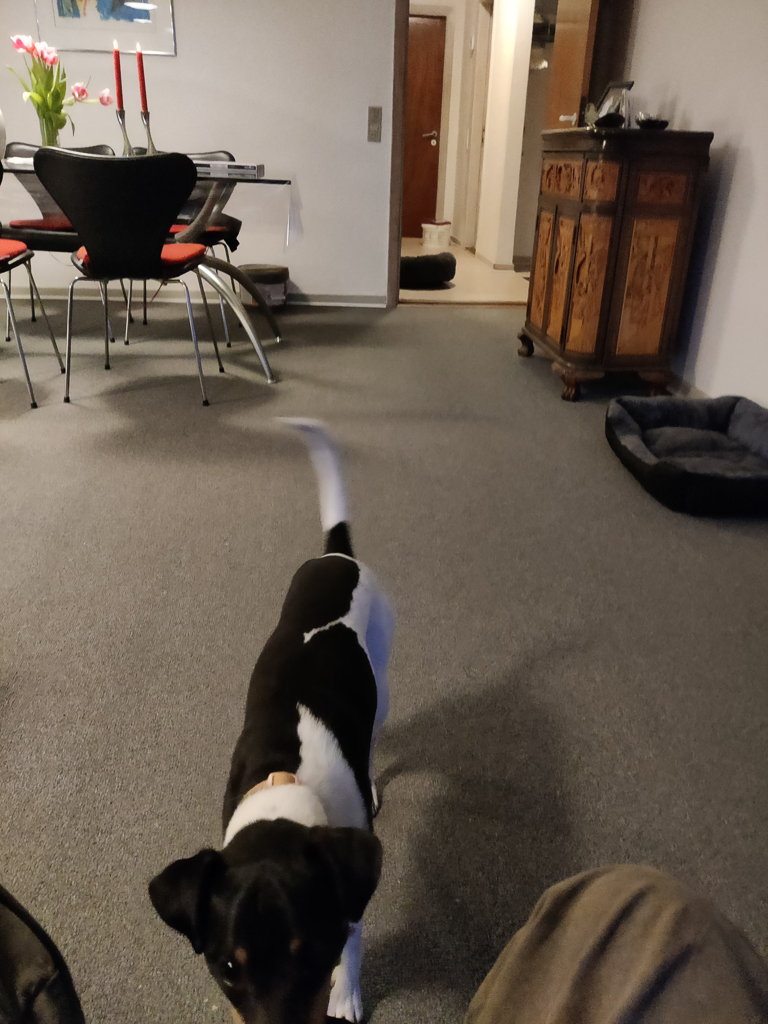Dog: (135, 410, 413, 1024)
Humanoid: (0, 826, 768, 1024)
